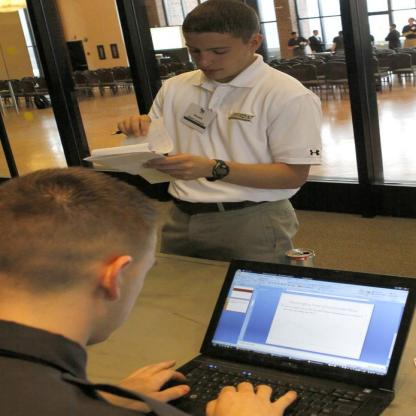board: (145, 261, 415, 416)
